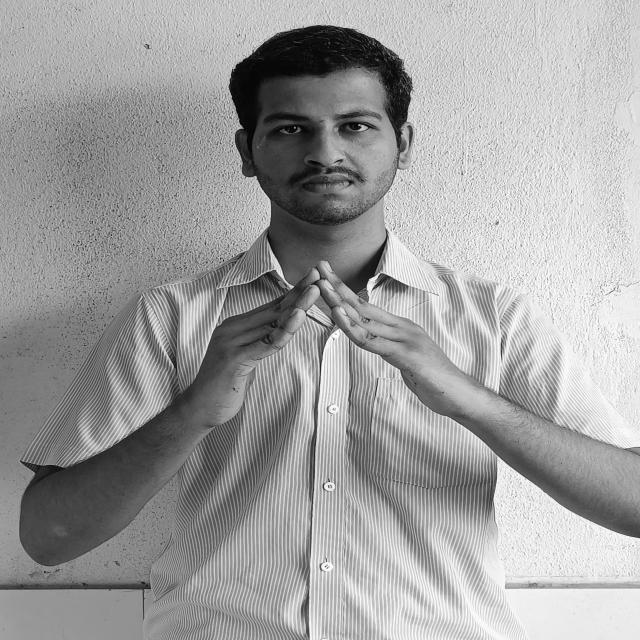Home: (195, 263, 452, 419)
